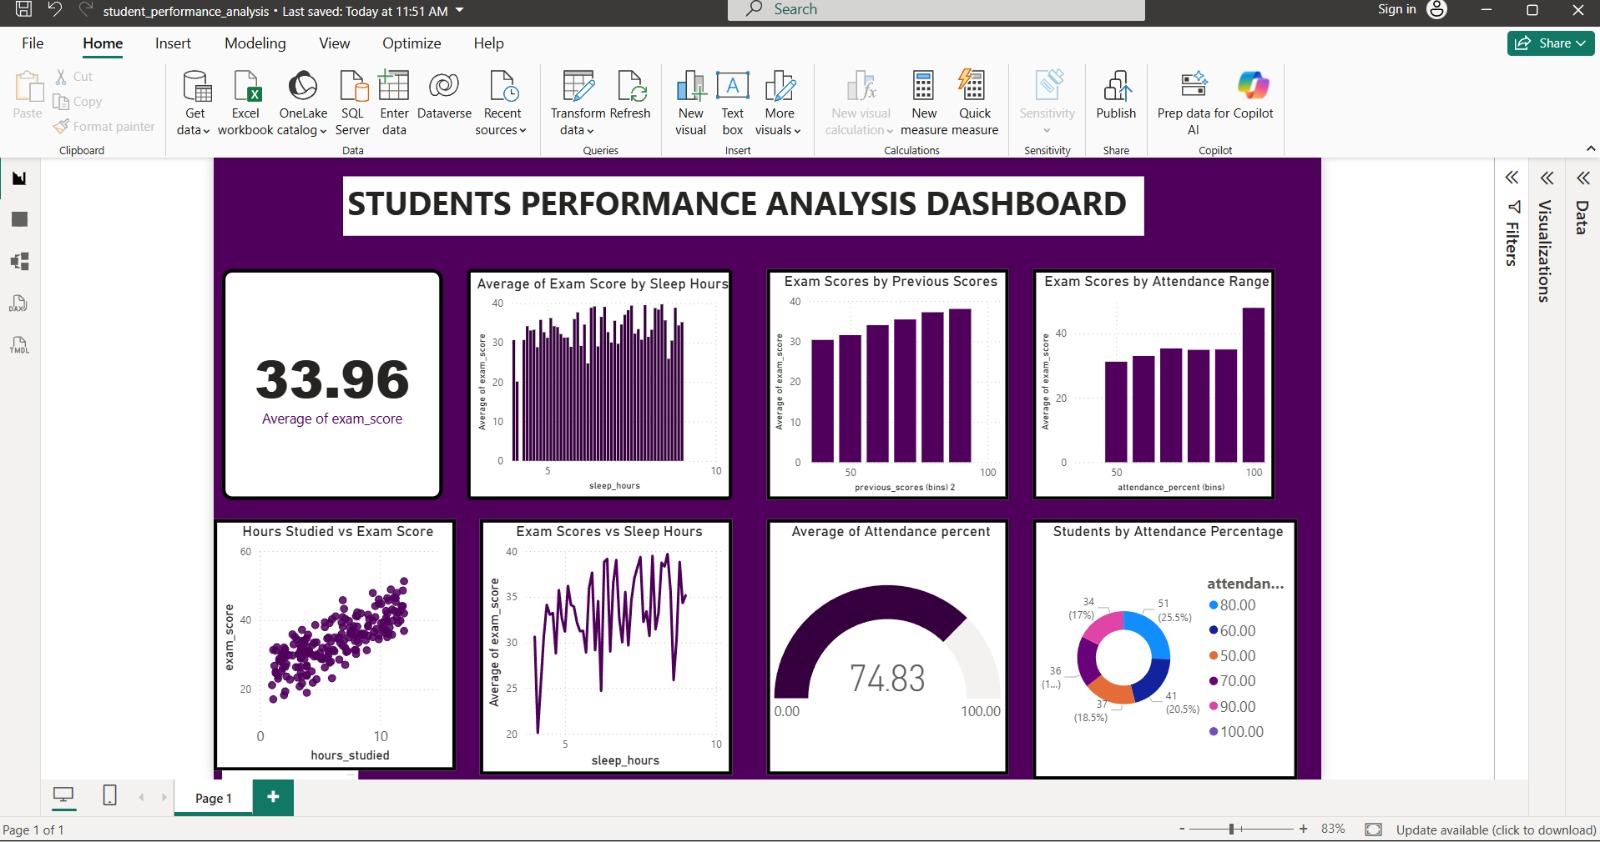

The page's visual inventory and layout, read from the dashboard file:
{"tool":"powerbi","page":{"name":"Page 1","canvas":[1280,720],"ordinal":0},"visuals":[{"type":"card","fields":{"Values":["Avg(data.exam_score)"]},"box":[9.6,129,255.2,267.6],"z":0},{"type":"scatterChart","title":"Hours Studied vs Exam Score","fields":{"X":["data.hours_studied"],"Y":["data.exam_score"]},"box":[0,418.5,279.9,290.9],"z":1},{"type":"clusteredColumnChart","title":"Average of Exam Score by Sleep Hours","fields":{"Category":["data.sleep_hours"],"Y":["Avg(data.exam_score)"]},"box":[293.7,129,306,267.6],"z":2},{"type":"clusteredColumnChart","title":"Exam Scores by Attendance Range","fields":{"Y":["Avg(data.exam_score)"],"Category":["data.attendance_percent (bins)"]},"box":[946.8,129,279.9,267.6],"z":3},{"type":"clusteredColumnChart","title":"Exam Scores by Previous Scores","fields":{"Y":["Avg(data.exam_score)"],"Category":["data.previous_scores (bins) 2"]},"box":[639.5,129,279.9,267.6],"z":4},{"type":"donutChart","title":"Students by Attendance Percentage","fields":{"Category":["data.attendance_percent (bins)"],"Y":["CountNonNull(data.student_id)"]},"box":[946.8,418.5,306,301.9],"z":5},{"type":"lineChart","title":"Exam Scores vs Sleep Hours","fields":{"Category":["data.sleep_hours"],"Y":["Avg(data.exam_score)"]},"box":[307.4,418.5,292.3,296.4],"z":6},{"type":"gauge","title":"Average of Attendance percent","fields":{"Y":["Avg(data.attendance_percent)"]},"box":[639.5,418.5,279.9,296.4],"z":7},{"type":"textbox","box":[9.6,709.4,157.8,11],"z":8},{"type":"textbox","box":[149.6,22,926.2,68.6],"z":9}]}

Visuals, with their boxes on the page's 1280x720 design canvas (x1, y1, x2, y2). These are canvas units, not pixel positions in the 1600x842 screenshot, which may show the page scaled, cropped or inside an application window:
card - Avg(data.exam_score): <region>10, 129, 265, 397</region>
"Hours Studied vs Exam Score" scatterChart: <region>0, 418, 280, 709</region>
"Average of Exam Score by Sleep Hours" clusteredColumnChart: <region>294, 129, 600, 397</region>
"Exam Scores by Attendance Range" clusteredColumnChart: <region>947, 129, 1227, 397</region>
"Exam Scores by Previous Scores" clusteredColumnChart: <region>640, 129, 919, 397</region>
"Students by Attendance Percentage" donutChart: <region>947, 418, 1253, 720</region>
"Exam Scores vs Sleep Hours" lineChart: <region>307, 418, 600, 715</region>
"Average of Attendance percent" gauge: <region>640, 418, 919, 715</region>
textbox: <region>10, 709, 167, 720</region>
textbox: <region>150, 22, 1076, 91</region>
